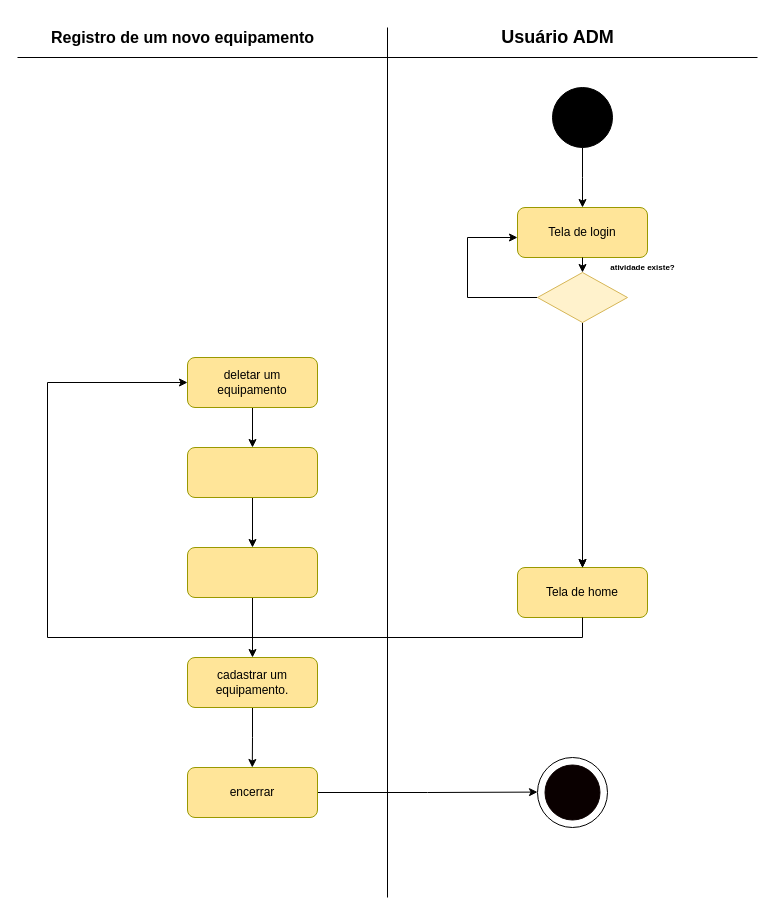
Some shapes in this 776 by 916 pixel diagram are drawn without their labels. The shapes that lost their labels are listed below. From the top down, each one's centre as x and y in pixels, then its label:
(252,472): listar os comentários
(252,572): adicionar um comentário.
